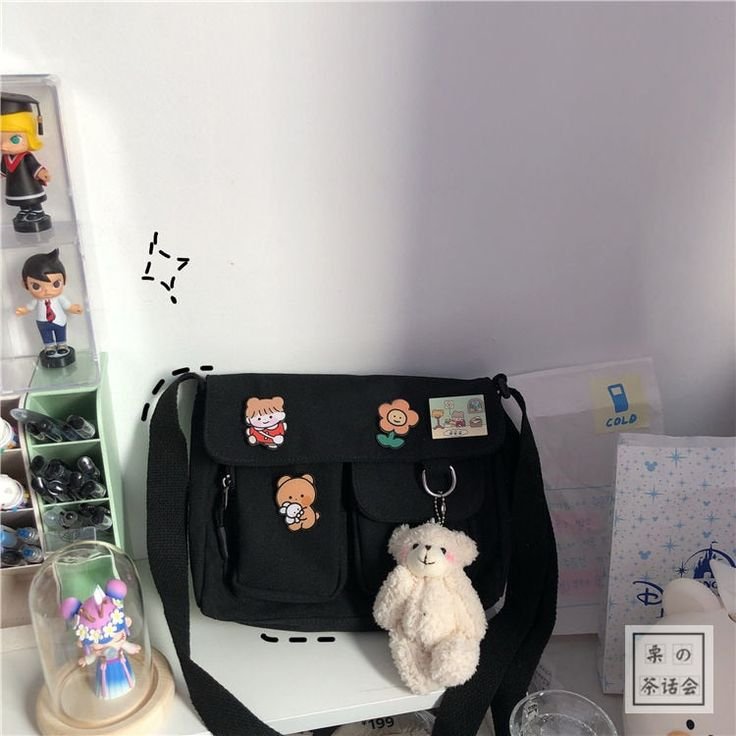nylon: (143, 372, 560, 736)
